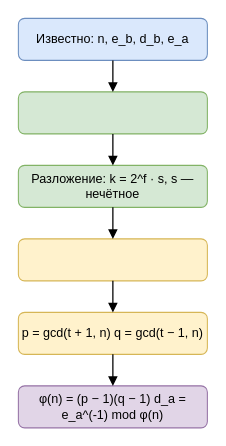
Some shapes in this 226 by 446 pixel diagram are drawn without their labels. Each missing label, with the centre of its shape:
"k = e_b · d_b − 1 k кратно φ(n)" goes at (112,112).
"Поиск нетривиального квадратного корня из 1 mod n" goes at (112,259).
